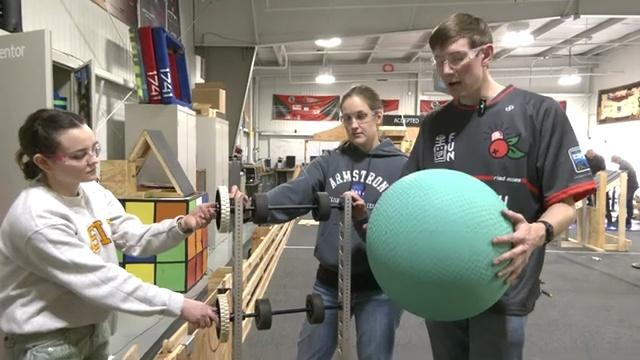ALGAE: (364, 166, 516, 322)
